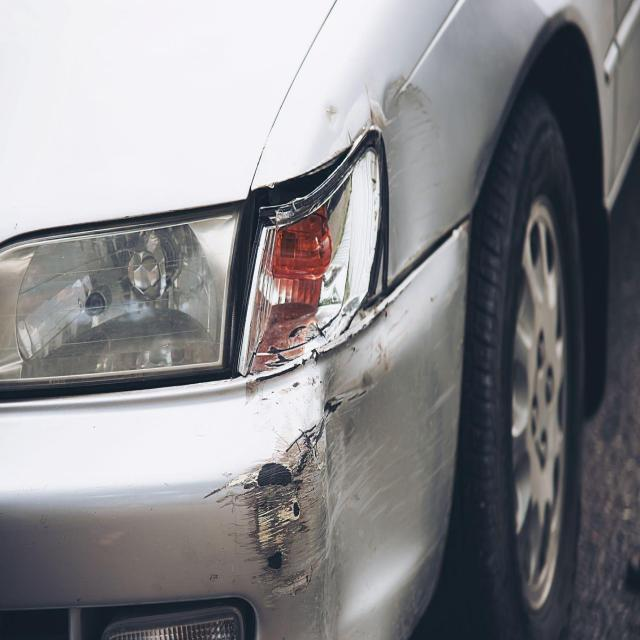dent: (250, 222, 472, 640), (375, 72, 456, 286)
